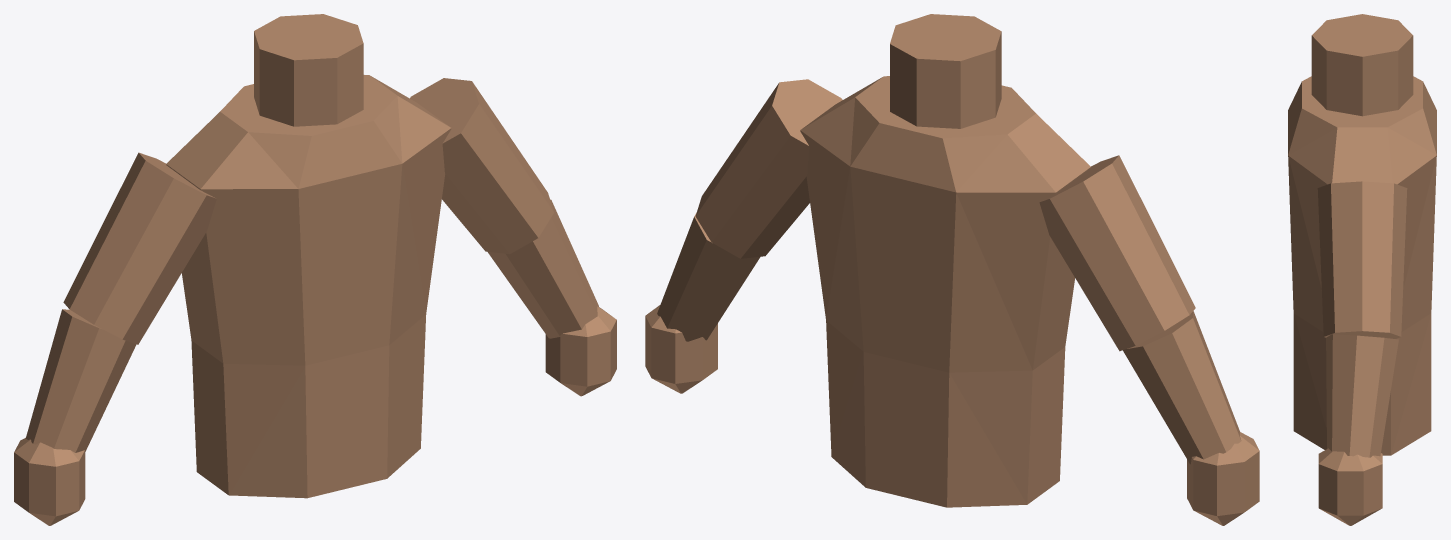
File: NPC_Body_00_Male.glb
3 renders of one model, left to right at view 1: azimuth 30°, elevation 25°; view 2: azimuth 150°, elevation 25°; view 3: azimuth 270°, elevation 25°, orthographic. The views are drawn at different scales.
Parts seen in each view (by area): view 1: NPC_Body_00_Male; view 2: NPC_Body_00_Male; view 3: NPC_Body_00_Male.
Part boxes in pixels (x1=…): NPC_Body_00_Male: x1=14, y1=14, x2=616, y2=525; NPC_Body_00_Male: x1=645, y1=14, x2=1259, y2=525; NPC_Body_00_Male: x1=1288, y1=14, x2=1436, y2=525.
Bounding box in the file's own units: 1.02 × 0.7 × 0.2494.
